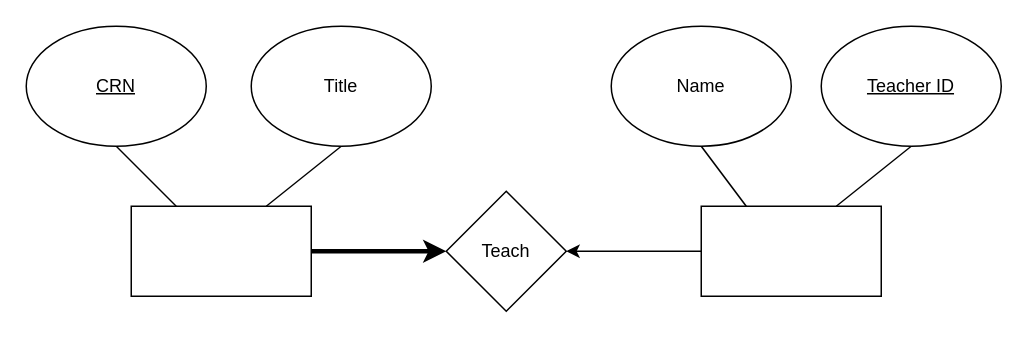
The diagram is 1028 pixels wide and 338 high, and some of its shapes have lost their labels. Each missing label, with the box of its shape:
Course: (130, 205, 311, 296)
Teacher: (700, 205, 881, 296)
